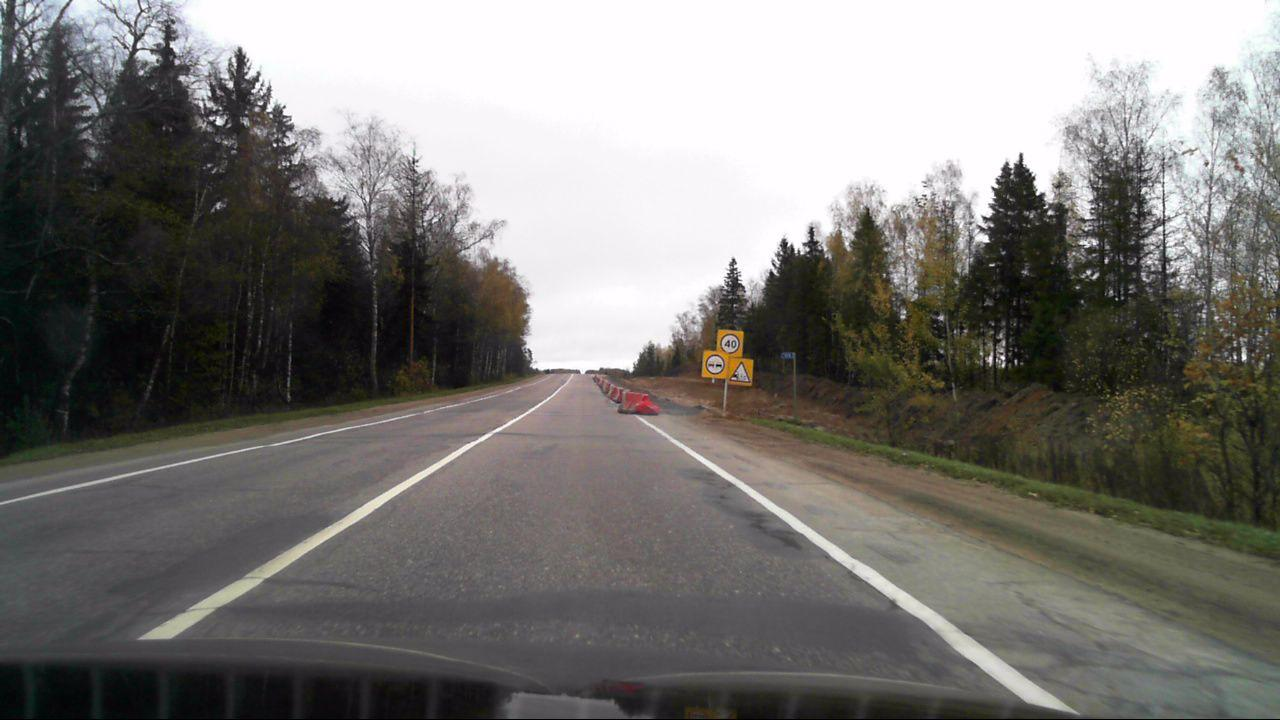1_18: (726, 359, 752, 385)
3_20: (705, 353, 724, 375)
3_24: (720, 331, 741, 353)
